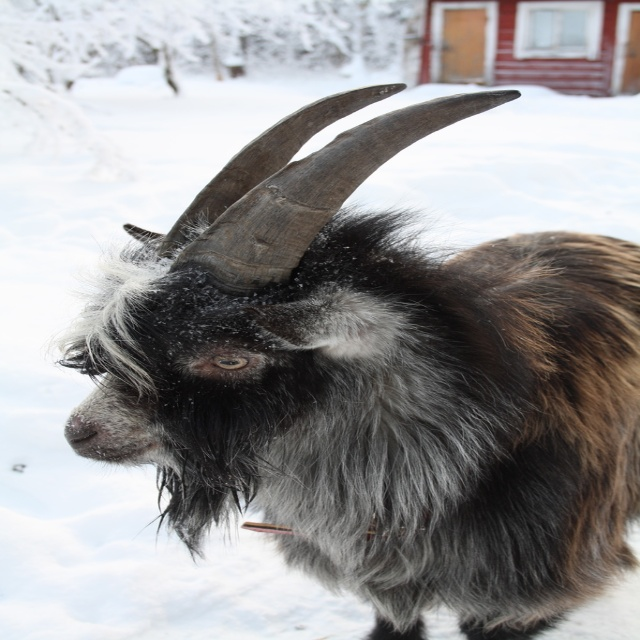Goat: (47, 83, 639, 640)
